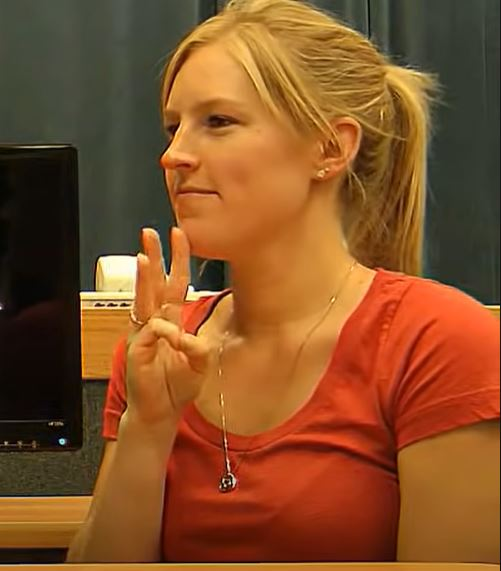Water: (74, 216, 277, 429)
